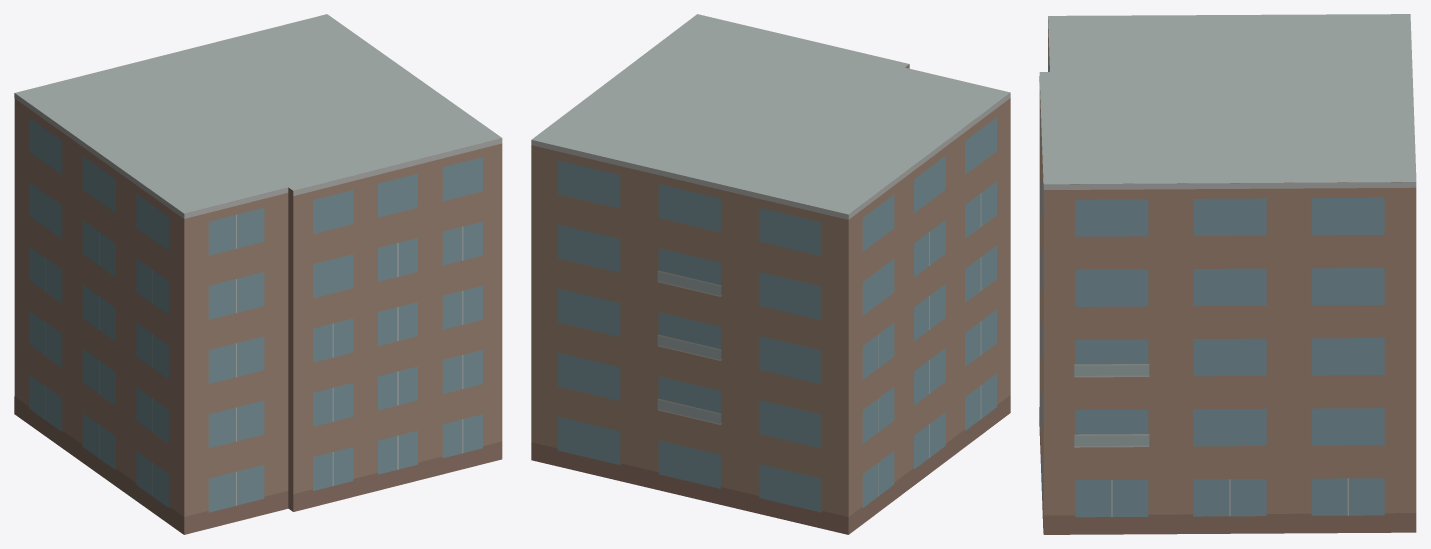
File: survey-upis-33015723.glb
The picture shows the model from 3 angles, left to right: view 1: azimuth 30°, elevation 25°; view 2: azimuth 150°, elevation 25°; view 3: azimuth 270°, elevation 25°; orthographic projection. The views are drawn at different scales.
Parts seen in each view (by area): view 1: survey-upis-33015723.tmp; view 2: survey-upis-33015723.tmp; view 3: survey-upis-33015723.tmp.
Boxes of the visible parts, left/top/right/bottom form: survey-upis-33015723.tmp: left=14, top=14, right=502, bottom=534; survey-upis-33015723.tmp: left=531, top=14, right=1010, bottom=534; survey-upis-33015723.tmp: left=1039, top=14, right=1416, bottom=534.
Size of the model in its own units: 15.34 by 14.7 by 14.34.
